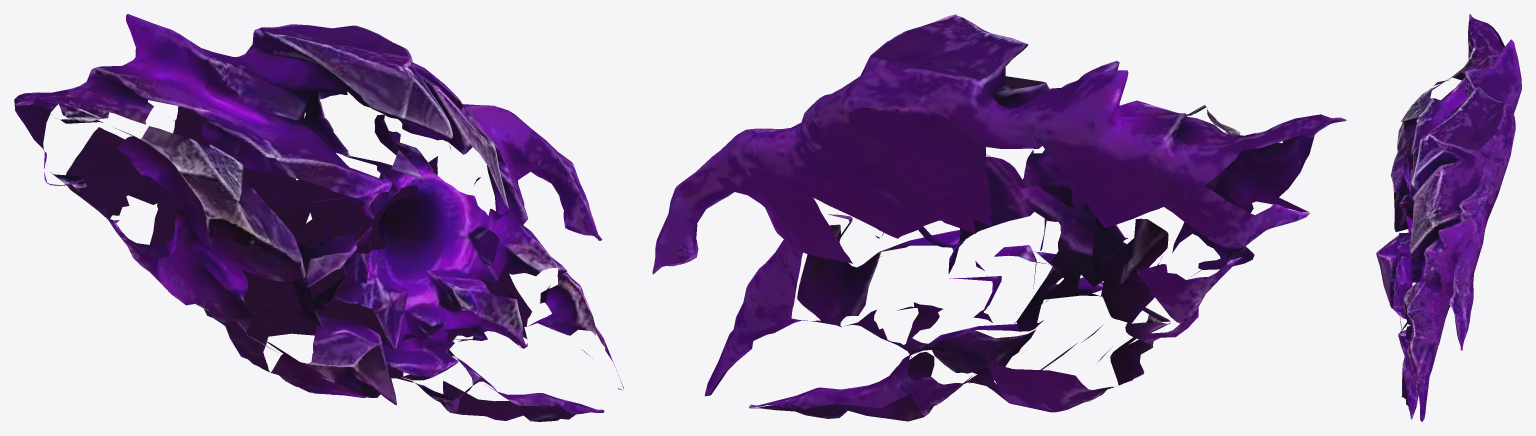
Rendered from devorador.glb.
3 views of the same model, side by side, from view 1: azimuth 30°, elevation 25°; view 2: azimuth 150°, elevation 25°; view 3: azimuth 270°, elevation 25° (orthographic). The views are drawn at different scales.
Visible parts, largest first — view 1: tripo_node_2bee4eee-f26c-4062-b30f-36dc926dff66; view 2: tripo_node_2bee4eee-f26c-4062-b30f-36dc926dff66; view 3: tripo_node_2bee4eee-f26c-4062-b30f-36dc926dff66.
Part boxes in pixels (box(x1,y1,x2,y2)): tripo_node_2bee4eee-f26c-4062-b30f-36dc926dff66: box(14, 14, 623, 421); tripo_node_2bee4eee-f26c-4062-b30f-36dc926dff66: box(652, 14, 1347, 421); tripo_node_2bee4eee-f26c-4062-b30f-36dc926dff66: box(1376, 14, 1521, 421).
Bounding box in the file's own units: 0.9817 × 0.7025 × 0.3525.
1 material, 1 textured.
